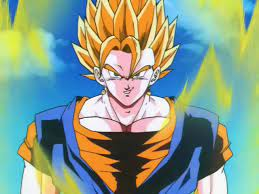Vegito: (84, 6, 170, 106)
